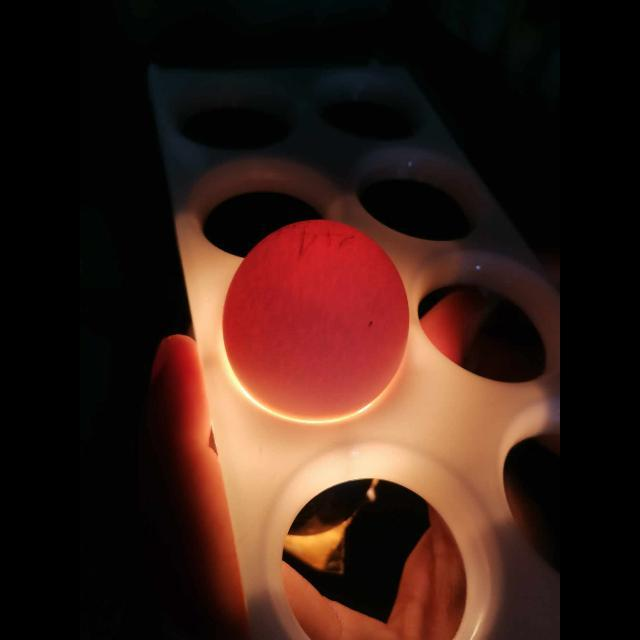Infertile: (230, 221, 410, 409)
